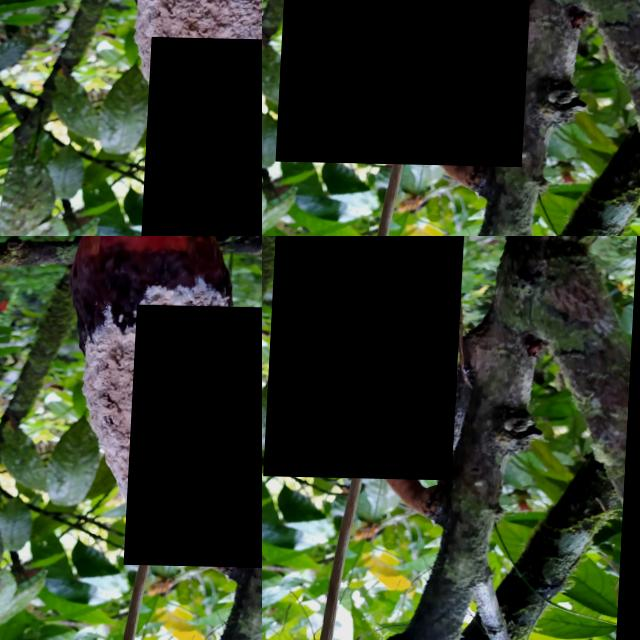Fitoftora: (129, 303, 262, 565)
Monilia: (268, 236, 471, 478), (280, 0, 542, 164)
Sana: (144, 35, 262, 236)
